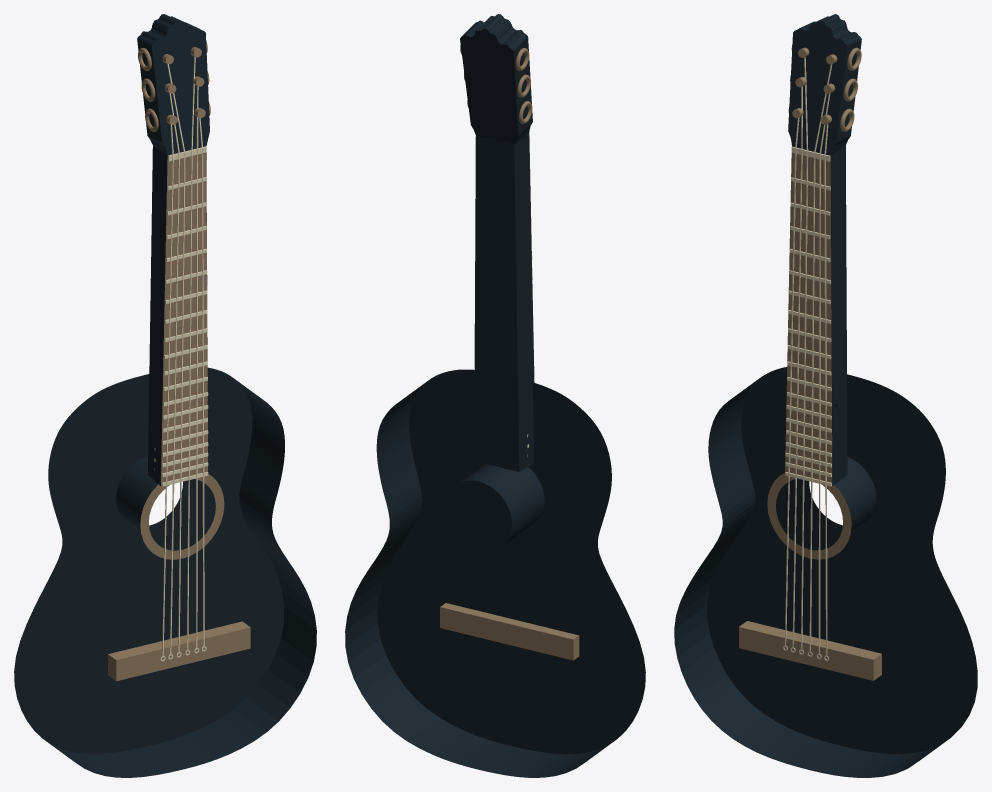
The model's file is Guitar.fbx.
3 views of the same model, side by side, from view 1: azimuth 30°, elevation 25°; view 2: azimuth 150°, elevation 25°; view 3: azimuth 330°, elevation 25° (orthographic).
Visible parts, largest first — view 1: Circle, Cube, Plane, Cube.021, Circle.007, Circle.004, Circle.003, Circle.002, Circle.006, Circle.001, Circle.005; view 2: Circle, Cube, Cube.021; view 3: Circle, Cube, Plane, Cube.021, Circle.007, Circle.003, Circle.004, Circle.005, Circle.002, Circle.006, Circle.001.
Boxes of the visible parts, x1,y1,x2,y2 form: Circle: [14, 367, 316, 777]; Cube: [137, 14, 209, 486]; Plane: [161, 152, 207, 486]; Cube.021: [108, 621, 250, 681]; Circle.007: [140, 474, 224, 559]; Circle.004: [185, 56, 195, 655]; Circle.003: [167, 64, 185, 657]; Circle.002: [168, 93, 179, 659]; Circle.006: [199, 117, 206, 651]; Circle.001: [160, 124, 173, 661]; Circle.005: [194, 86, 199, 653]; Circle: [345, 369, 645, 777]; Cube: [460, 14, 534, 471]; Cube.021: [440, 603, 579, 660]; Circle: [674, 367, 977, 777]; Cube: [788, 14, 861, 486]; Plane: [785, 152, 832, 485]; Cube.021: [739, 621, 881, 680]; Circle.007: [767, 473, 851, 559]; Circle.003: [799, 57, 808, 654]; Circle.004: [807, 64, 832, 656]; Circle.005: [816, 93, 830, 659]; Circle.002: [790, 86, 802, 652]; Circle.006: [824, 124, 828, 660]; Circle.001: [783, 117, 799, 650].
Bounding box in the file's own units: 184 × 484 × 42.1.
